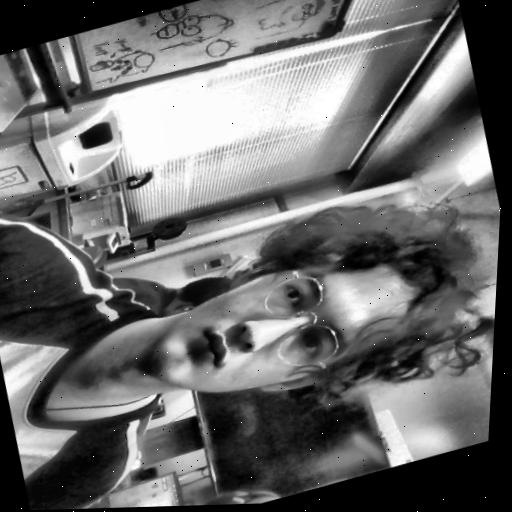Daifuku: (127, 170, 502, 451)
Not Daifuku: (154, 477, 293, 507), (159, 270, 237, 318)
